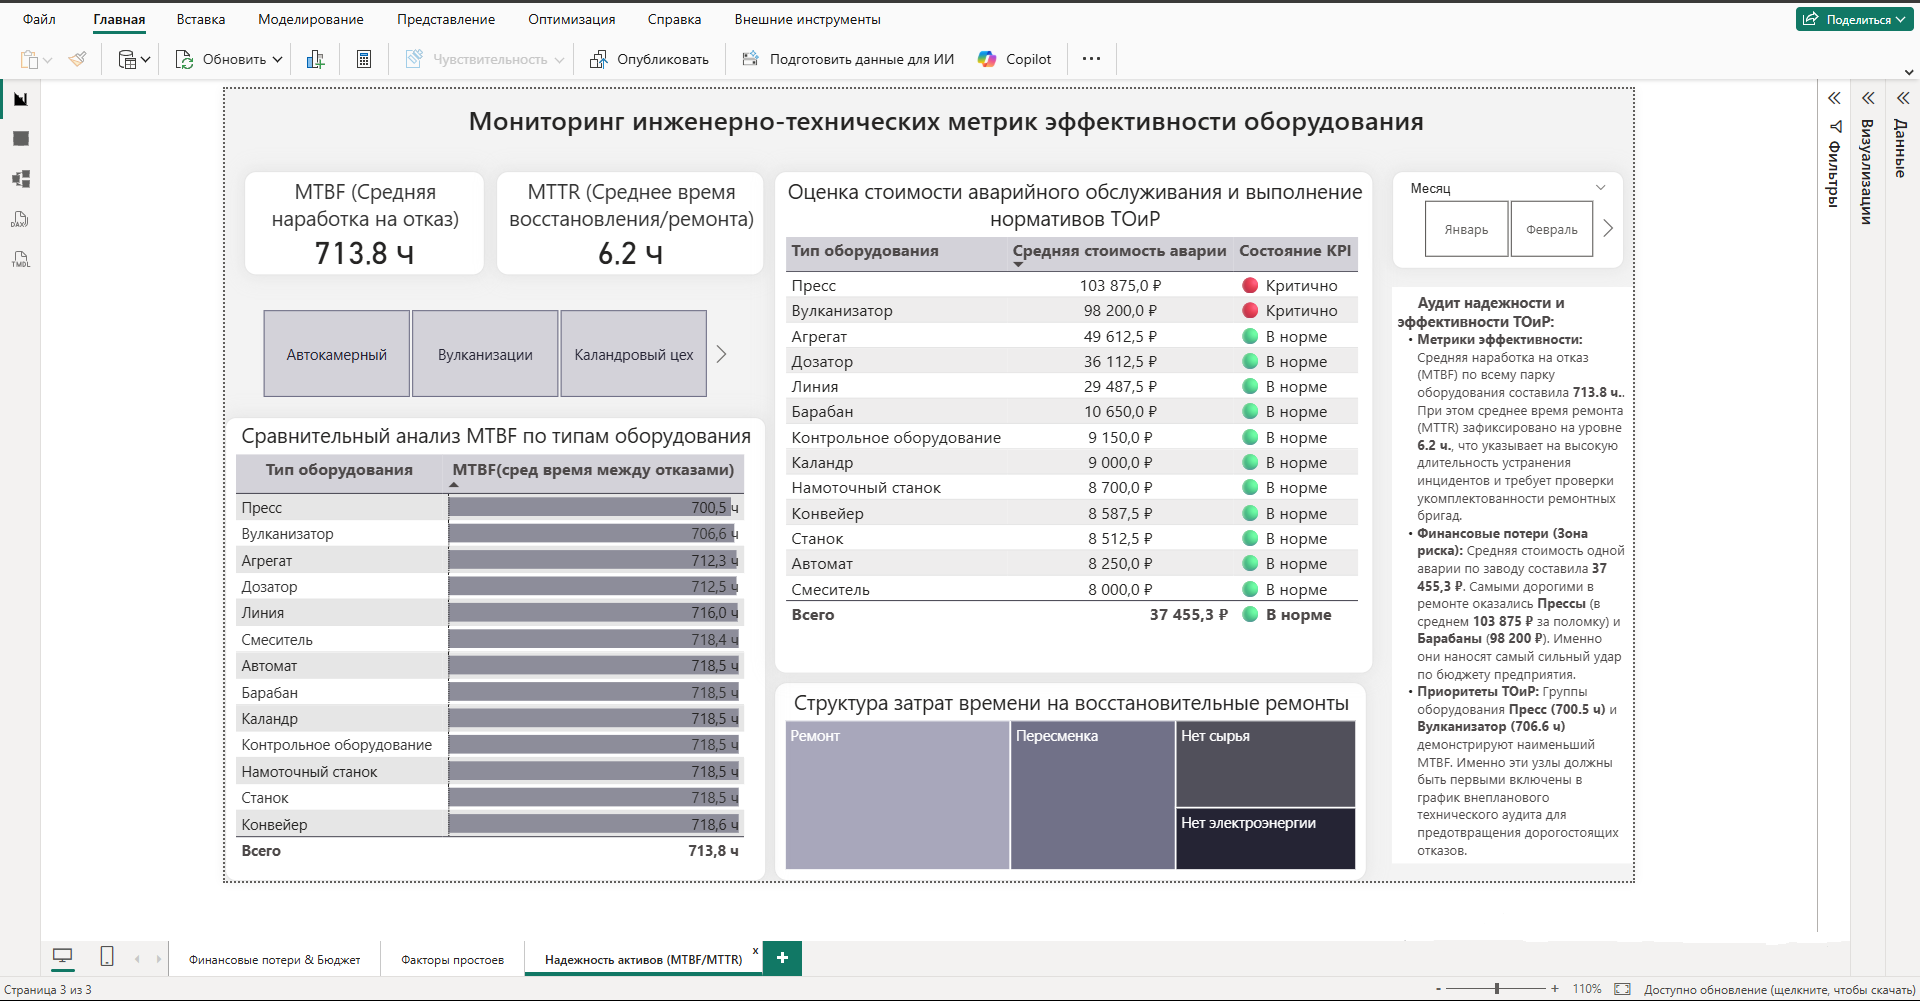

This screenshot's page, from the dashboard's own definition file:
{"tool":"powerbi","page":{"name":"Надежность активов (MTBF/MTTR)","canvas":[1280,720],"ordinal":2},"visuals":[{"type":"textbox","box":[216.7,6.3,893.7,49.3],"z":0},{"type":"treemap","title":"Структура затрат времени на восстановительные ремонты","fields":{"Group":["Таблица_простои.Причина_Простоя"],"Values":["_Меры.Количество_поломок"]},"box":[498.8,539.1,539.1,180.9],"z":1000},{"type":"card","title":"MTBF (Средняя наработка на отказ)","fields":{"Values":["_Меры.MTBF (Среднее время между отказами)"]},"box":[17,74.3,218.5,94.9],"z":2000},{"type":"tableEx","title":"Сравнительный анализ MTBF по типам оборудования","fields":{"Values":["Справочник_оборудования.Тип_Оборудования","_Меры.MTBF (Среднее время между отказами)"]},"box":[0,298.2,491.6,421.8],"z":3000},{"type":"card","title":"MTTR (Среднее время восстановления/ремонта)","fields":{"Values":["_Меры.Среднее время ремонта (MTTR)"]},"box":[246.3,74.3,244.5,94.9],"z":4000},{"type":"tableEx","title":"Оценка стоимости аварийного обслуживания и выполнение нормативов ТОиР","fields":{"Values":["Справочник_оборудования.Тип_Оборудования","_Меры.Средняя_стоимость_случая","_Меры.KPI_Статус"]},"box":[498.8,74.3,545.4,456.7],"z":5000},{"type":"slicer","fields":{"Values":["Справочник_цехов.Цех"]},"box":[9,180,453.1,107.5],"z":6000},{"type":"slicer","fields":{"Values":["Календарь.Date.Изменение.Иерархия дат.Месяц"]},"box":[1061.2,74.3,211.3,88.7],"z":7000},{"type":"textbox","box":[1061.2,180,218.5,523.9],"z":8000}]}

Visuals, with their boxes on the page's 1280x720 design canvas (x1, y1, x2, y2). These are canvas units, not pixel positions in the 1920x1001 screenshot, which may show the page scaled, cropped or inside an application window:
textbox: rect(217, 6, 1110, 56)
"Структура затрат времени на восстановительные ремонты" treemap: rect(499, 539, 1038, 720)
"MTBF (Средняя наработка на отказ)" card: rect(17, 74, 236, 169)
"Сравнительный анализ MTBF по типам оборудования" tableEx: rect(0, 298, 492, 720)
"MTTR (Среднее время восстановления/ремонта)" card: rect(246, 74, 491, 169)
"Оценка стоимости аварийного обслуживания и выполнение нормативов ТОиР" tableEx: rect(499, 74, 1044, 531)
slicer - Справочник_цехов.Цех: rect(9, 180, 462, 288)
slicer - Календарь.Date.Изменение.Иерархия дат.Месяц: rect(1061, 74, 1272, 163)
textbox: rect(1061, 180, 1280, 704)
